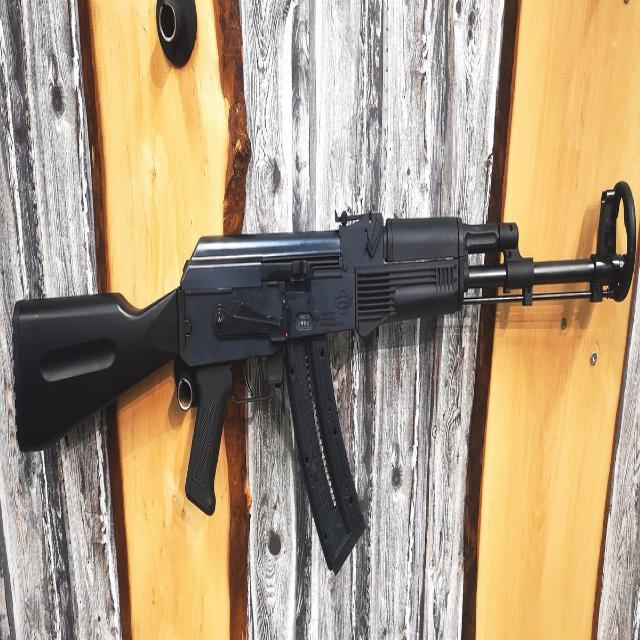weapon: (12, 208, 628, 576)
